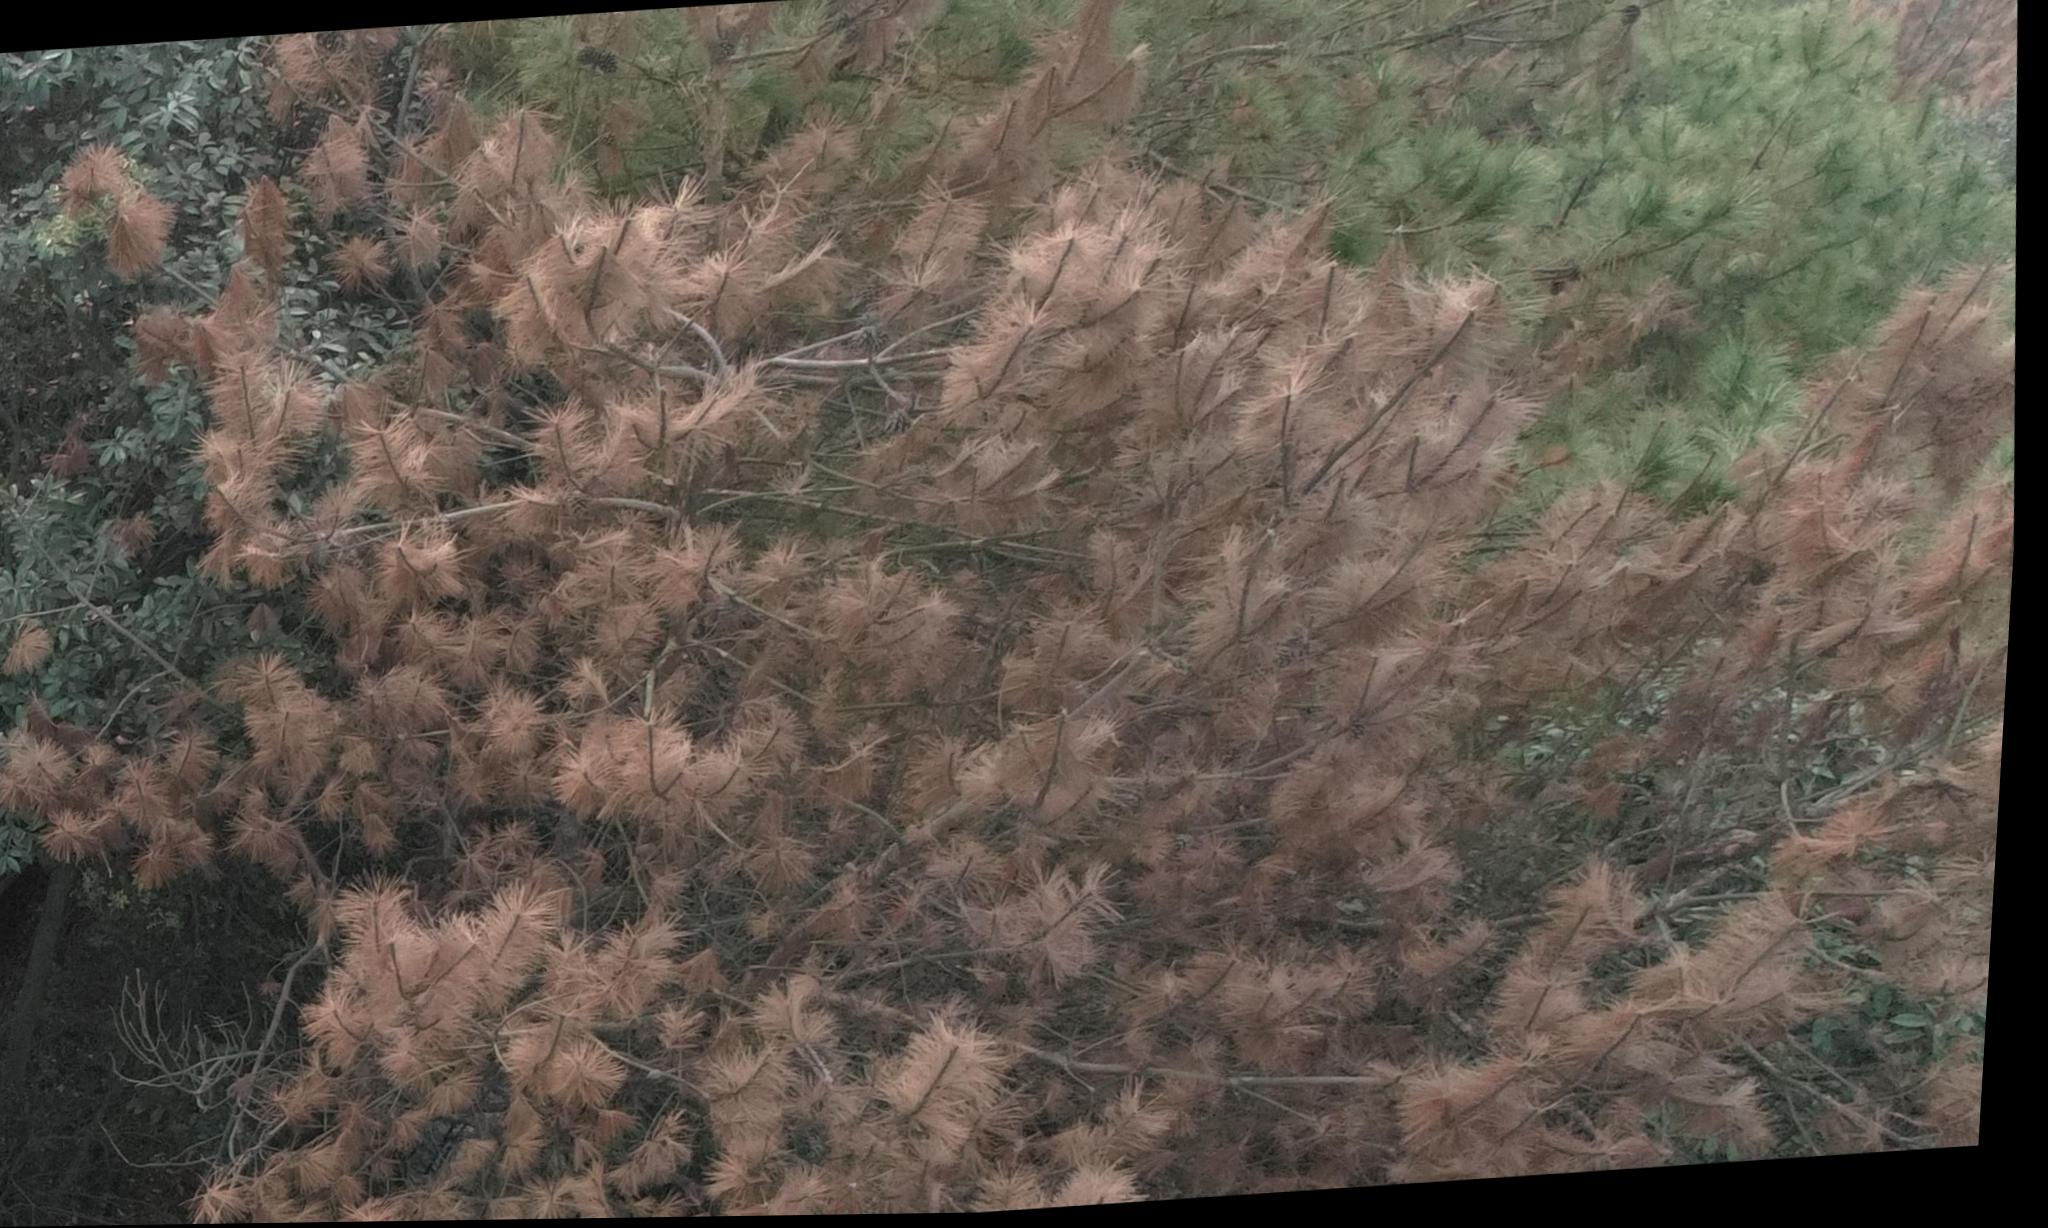heavy: (25, 0, 2048, 1227)
